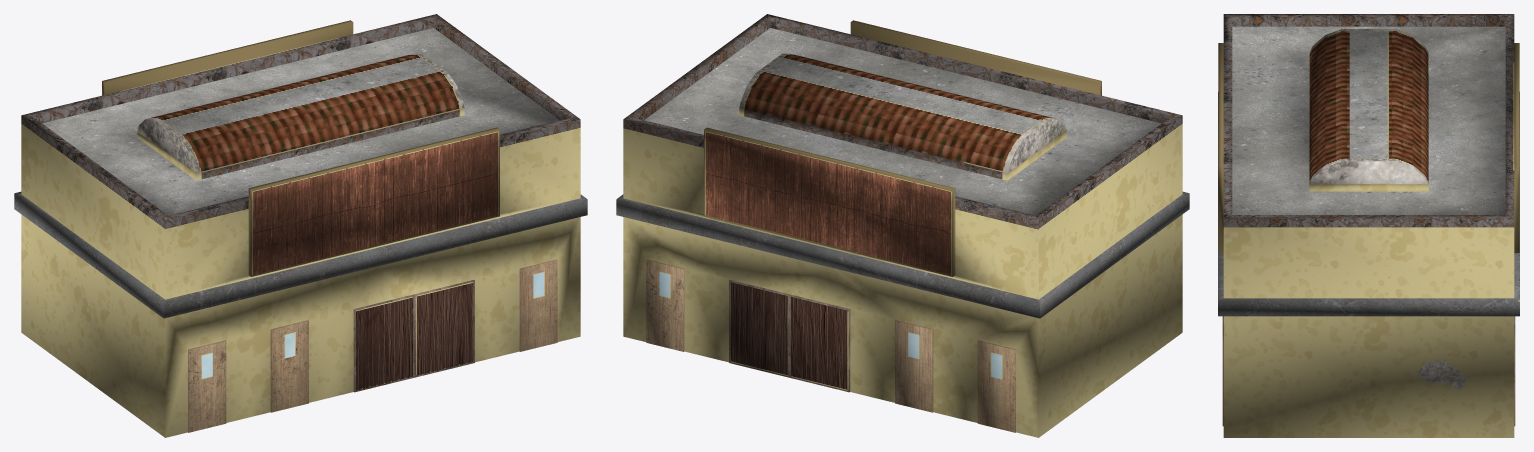
Rendered from storehouse.glb.
The picture shows the model from 3 angles, left to right: view 1: azimuth 30°, elevation 25°; view 2: azimuth 150°, elevation 25°; view 3: azimuth 270°, elevation 25°; orthographic projection.
Visible parts, largest first — view 1: Storehouse_low; view 2: Storehouse_low; view 3: Storehouse_low.
Boxes of the visible parts, <box> form: Storehouse_low: <box>14,14,587,437</box>; Storehouse_low: <box>616,14,1189,437</box>; Storehouse_low: <box>1218,14,1519,437</box>.
Bounding box in the file's own units: 10.2 × 5.49 × 6.24.
Materials: 1 (1 with a texture image).
